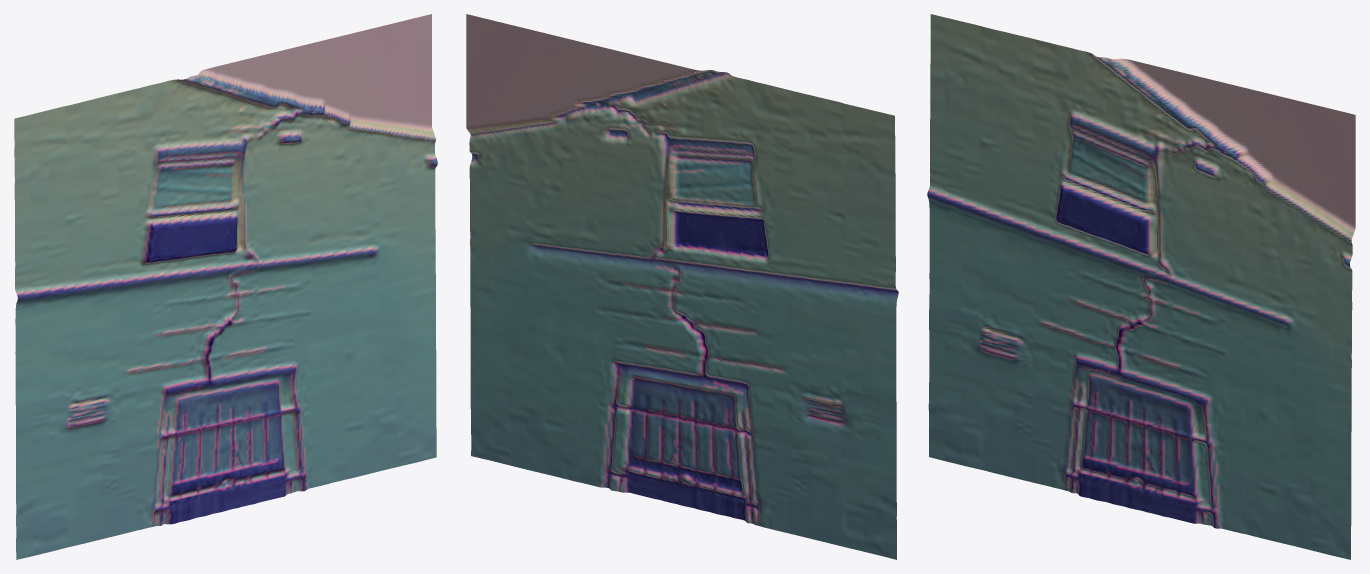
3 views of the same model, side by side, from view 1: azimuth 30°, elevation 25°; view 2: azimuth 150°, elevation 25°; view 3: azimuth 330°, elevation 25° (orthographic).
Visible parts, largest first — view 1: world; view 2: world; view 3: world.
Part boxes in pixels (box(x1,y1,x2,y2)): world: box(14, 14, 437, 559); world: box(466, 14, 898, 559); world: box(927, 14, 1355, 559).
Bounding box in the file's own units: 299 × 299 × 9.04.
